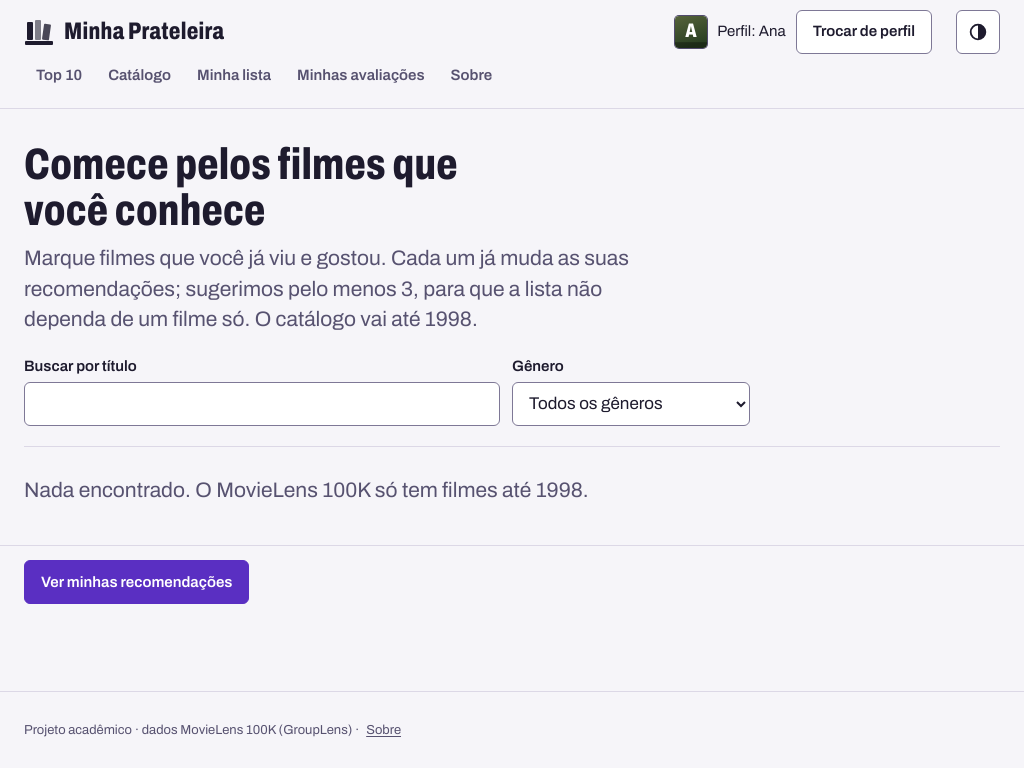
Test case: erro preso ao perfil e conclusão única › nova tentativa limpa o erro anterior enquanto o PATCH está em voo
The width and height of the screenshot is (1024, 768).
Expected: the text "Perfil: Ana" is shown, top-left (717, 20), bottom-right (786, 44)
Click the link "Top 10" at (59, 75), box top-left (36, 67), bottom-right (82, 83)
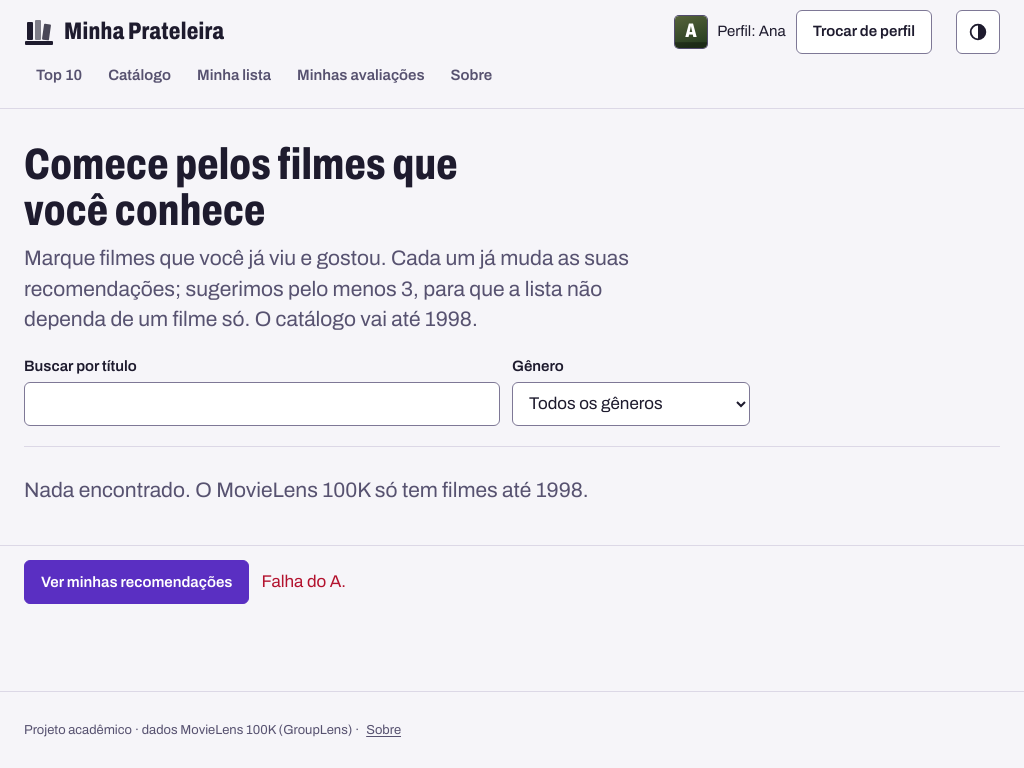
Result: the message "Falha do A." is shown at top-left (261, 569), bottom-right (346, 596)
Click the link "Top 10" at (59, 75), box top-left (36, 67), bottom-right (82, 83)
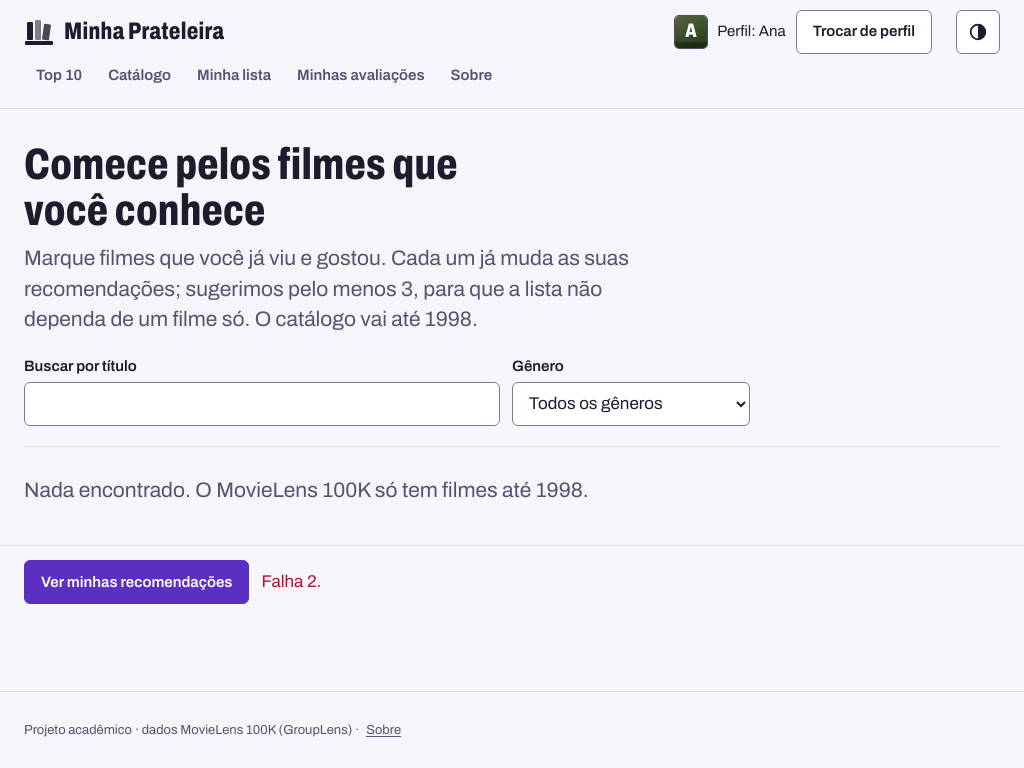
Result: the message reads "Falha 2." at top-left (261, 572), bottom-right (321, 591)
